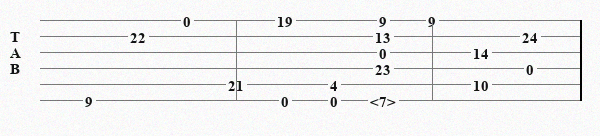0: (183, 13, 195, 27), (281, 93, 293, 107), (330, 93, 342, 107), (379, 45, 391, 59), (526, 61, 538, 75)
10: (473, 77, 493, 91)
13: (375, 29, 395, 43)
14: (473, 45, 493, 59)
19: (277, 13, 297, 27)
21: (228, 77, 248, 91)
22: (130, 29, 150, 43)
23: (375, 61, 395, 75)
24: (522, 29, 542, 43)
4: (330, 77, 342, 91)
9: (85, 93, 97, 107), (379, 13, 391, 27), (428, 13, 440, 27)
harmonic: (370, 93, 400, 107)
